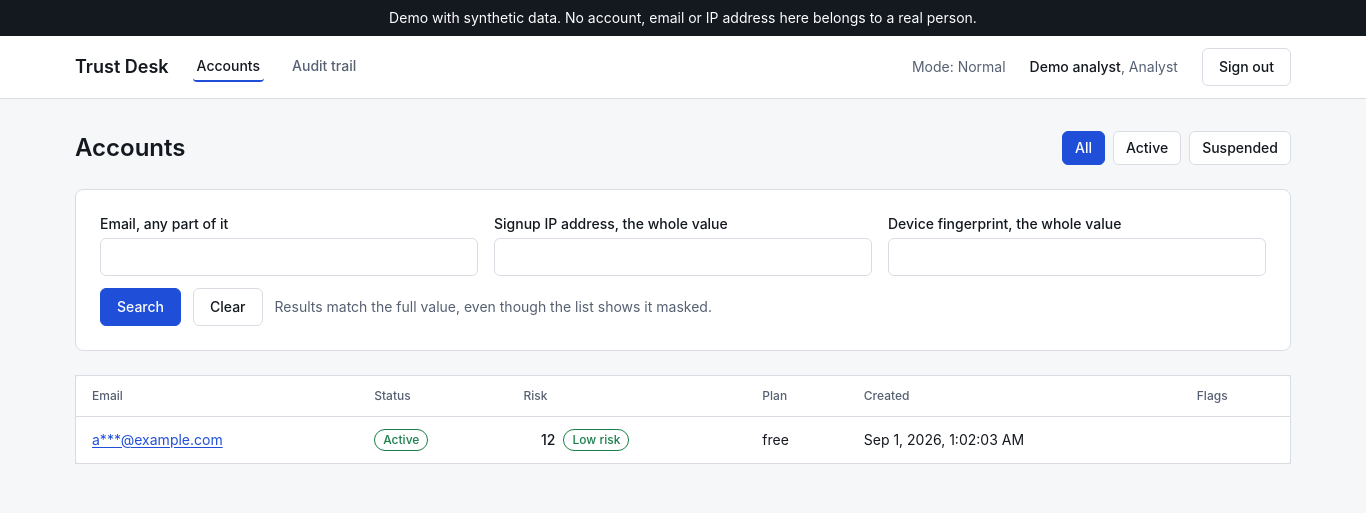
SearchForm › sends nothing and shows a message for a 1-character term
The image size is (1366, 513).
Expected: the table is shown, [75,375,1291,464]
Type "a" into the field labelled "Email, any part of it" at (289, 257), box [100,238,478,276]
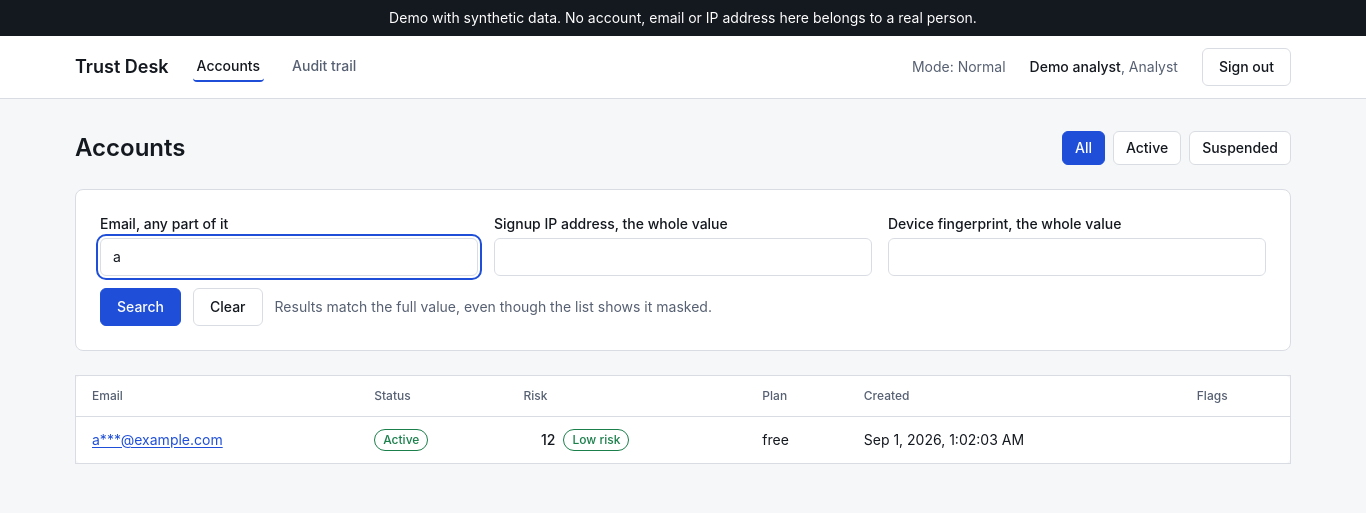
Click the button "Search" at (140, 307), box [100,288,181,326]
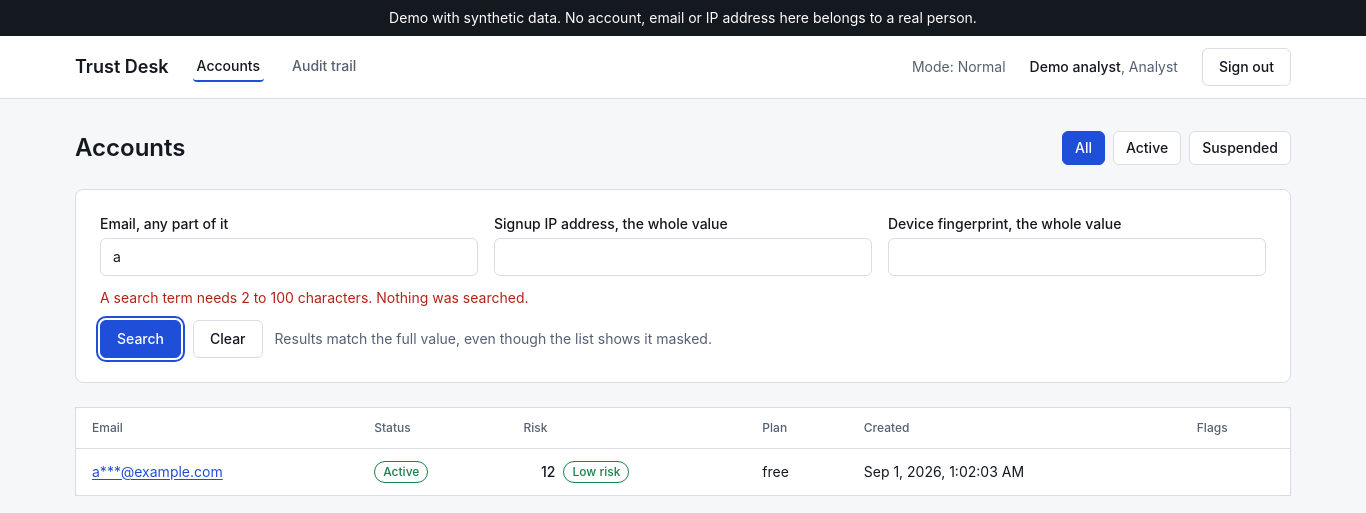
Now the message shows "A search term needs 2 to 100 characters.", box [100,289,528,306]
